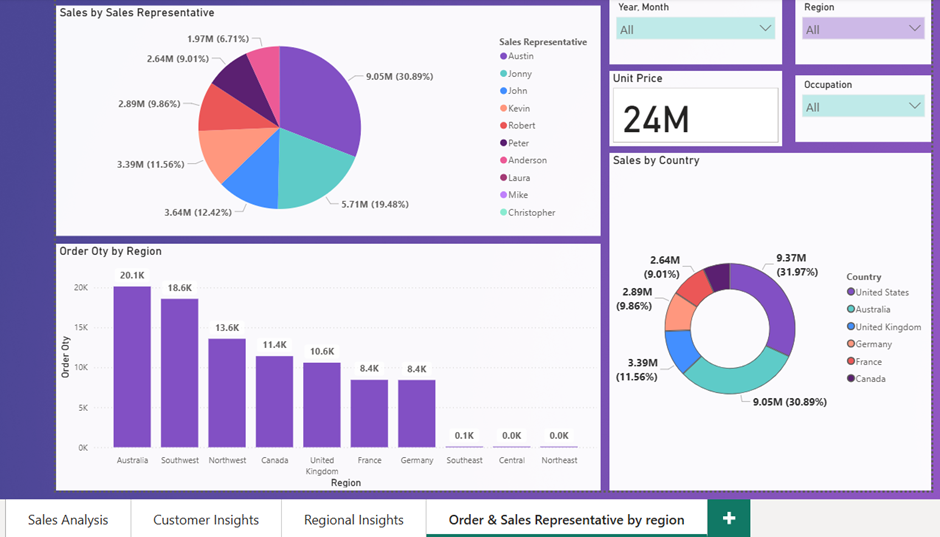

The dashboard page shown, as its layout file describes it:
{"tool":"powerbi","page":{"name":"Order & Sales Representative by region","canvas":[1280,720],"ordinal":3},"visuals":[{"type":"lineStackedColumnComboChart","fields":{"Category":["Territory.Region"],"Y":["Sum(Sales.OrderQuantity)"]},"box":[0,359.5,796.7,361.1],"z":0},{"type":"pieChart","fields":{"Y":["Sum(Sales.Total Sales)"],"Category":["Territory.Sales Representative"]},"box":[0,11.3,796.7,336.8],"z":1000},{"type":"donutChart","fields":{"Y":["Sum(Sales.Total Sales)"],"Category":["Territory.Country"]},"box":[809.6,226.7,471.2,493.9],"z":1001},{"type":"slicer","fields":{"Values":["Territory.Region"]},"box":[1081.6,0,199.2,97.2],"z":1002},{"type":"slicer","fields":{"Values":["Sales.OrderDate.Variation.Date Hierarchy.Year","Sales.OrderDate.Variation.Date Hierarchy.Month"]},"box":[809.6,0,252.6,97.2],"z":1003},{"type":"slicer","fields":{"Values":["Customer.Occupation"]},"box":[1081.6,113.3,199.2,97.2],"z":1004},{"type":"cardVisual","title":"Unit Price","fields":{"Data":["Sum(Sales.UnitPrice)"]},"box":[809.6,106.9,252.6,110.1],"z":1005}]}

Visuals, with their boxes on the page's 1280x720 design canvas (x1, y1, x2, y2). These are canvas units, not pixel positions in the 940x537 screenshot, which may show the page scaled, cropped or inside an application window:
lineStackedColumnComboChart - Territory.Region x Sum(Sales.OrderQuantity): BBox(0, 360, 797, 721)
pieChart - Sum(Sales.Total Sales) x Territory.Sales Representative: BBox(0, 11, 797, 348)
donutChart - Sum(Sales.Total Sales) x Territory.Country: BBox(810, 227, 1281, 721)
slicer - Territory.Region: BBox(1082, 0, 1281, 97)
slicer - Sales.OrderDate.Variation.Date Hierarchy.Year x Sales.OrderDate.Variation.Date Hierarchy.Month: BBox(810, 0, 1062, 97)
slicer - Customer.Occupation: BBox(1082, 113, 1281, 210)
"Unit Price" cardVisual: BBox(810, 107, 1062, 217)
